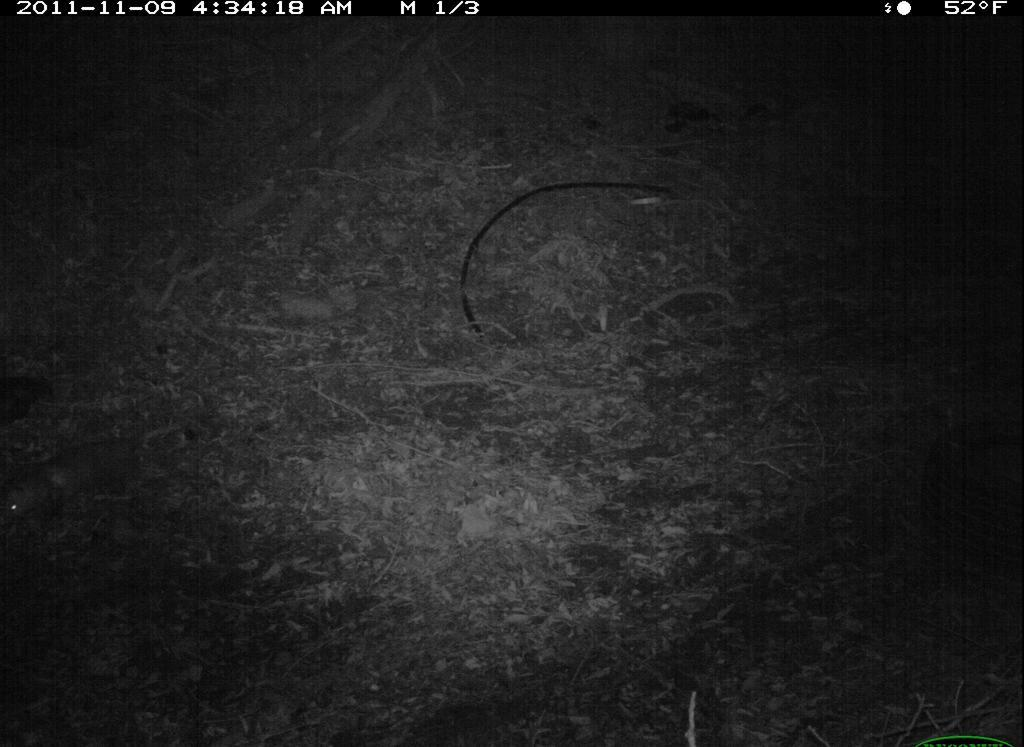opossum: (4, 423, 185, 536)
